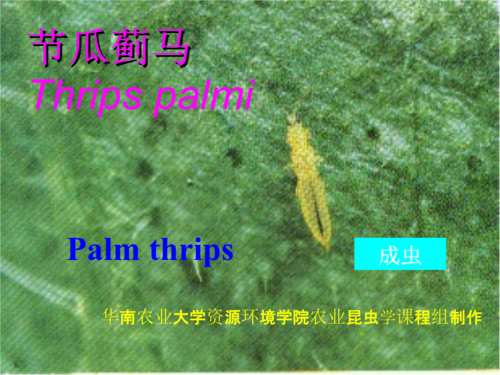Thripidae: (283, 107, 332, 254)
